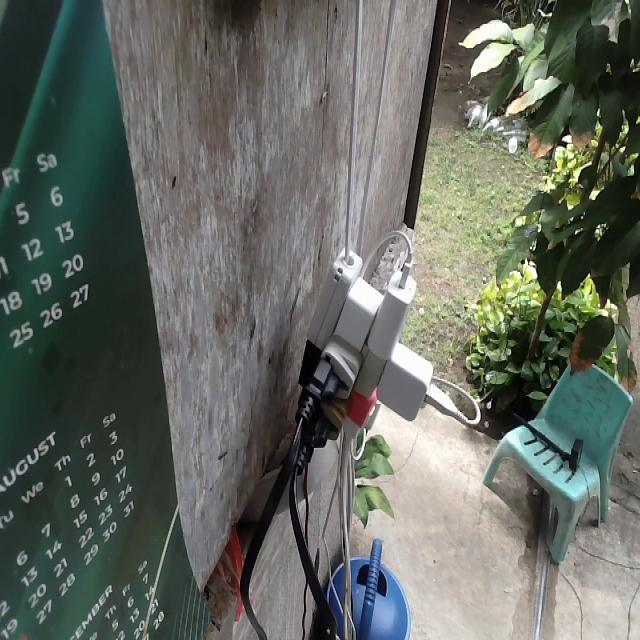-: (291, 244, 434, 475)
